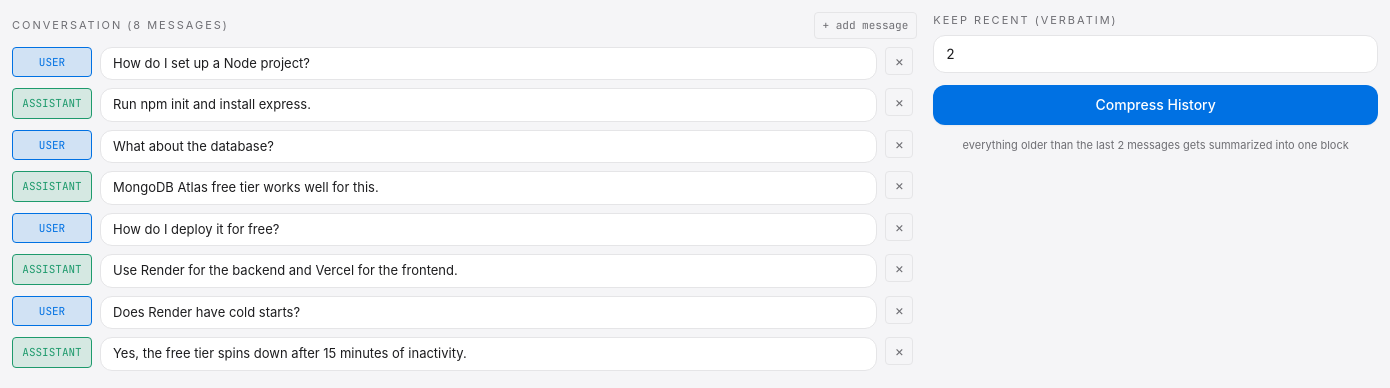
Test: ChatCompressor › remove button (×) deletes a row
Expected: the text "Conversation (8 messages)" is shown, left=12, top=17, right=229, bottom=34
Click the button named "remove message" at point(899, 60), box left=885, top=46, right=913, bottom=74
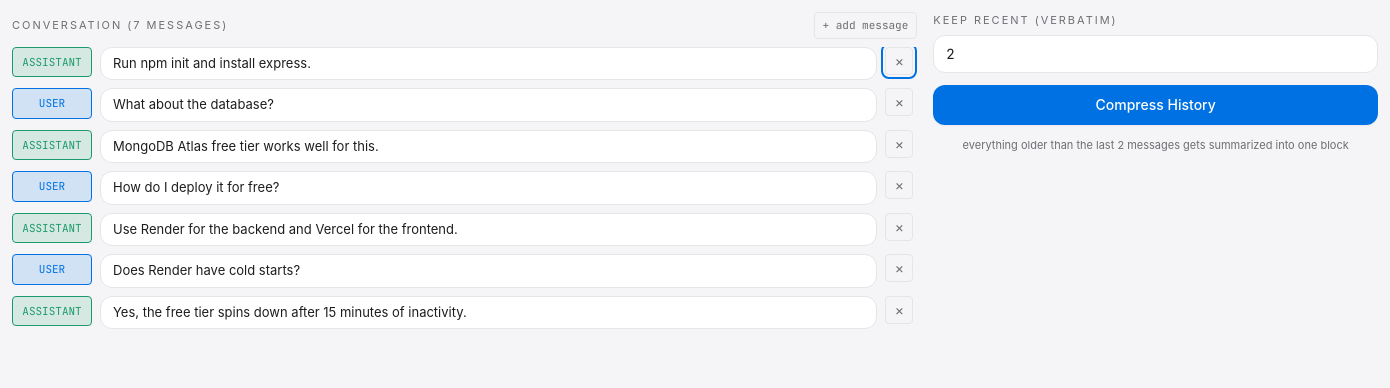
Now the text "Conversation (7 messages)" is shown, box left=12, top=17, right=228, bottom=34
